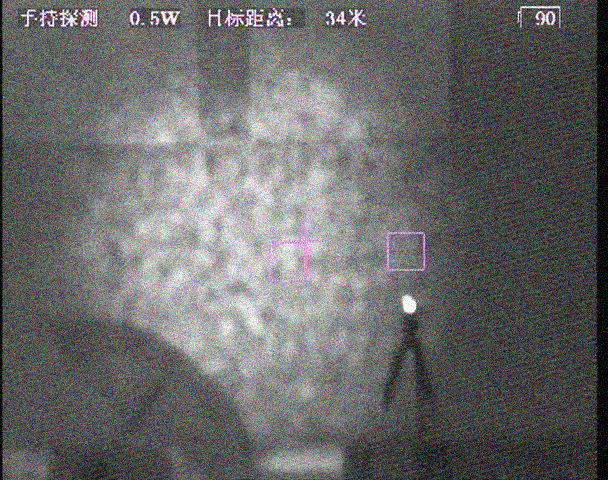my: (400, 293, 418, 313)
